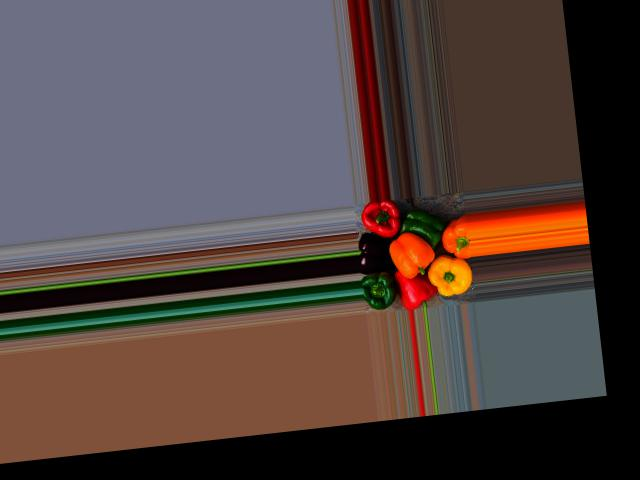bell_pepper: (429, 204, 470, 260)
